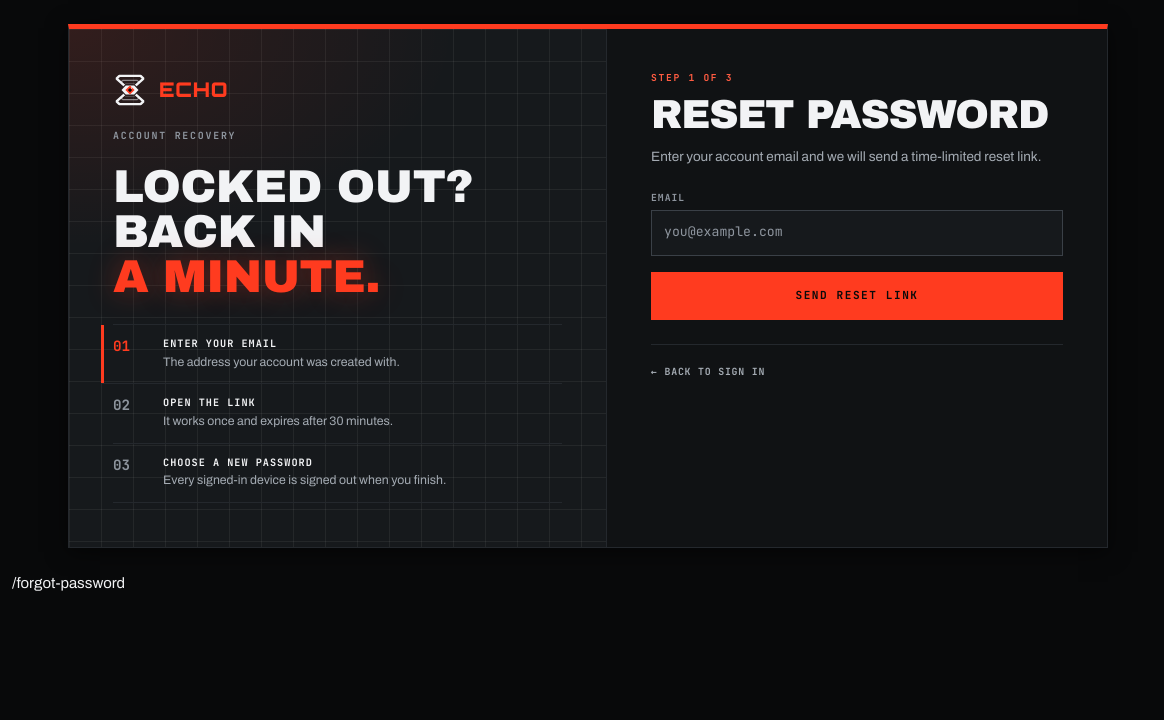
Test: PasswordResetPage — request a link › in development mode offers the reset link directly
Type "maker@example.com" into the field labelled "EMAIL" at (857, 233), box [652,211,1062,255]
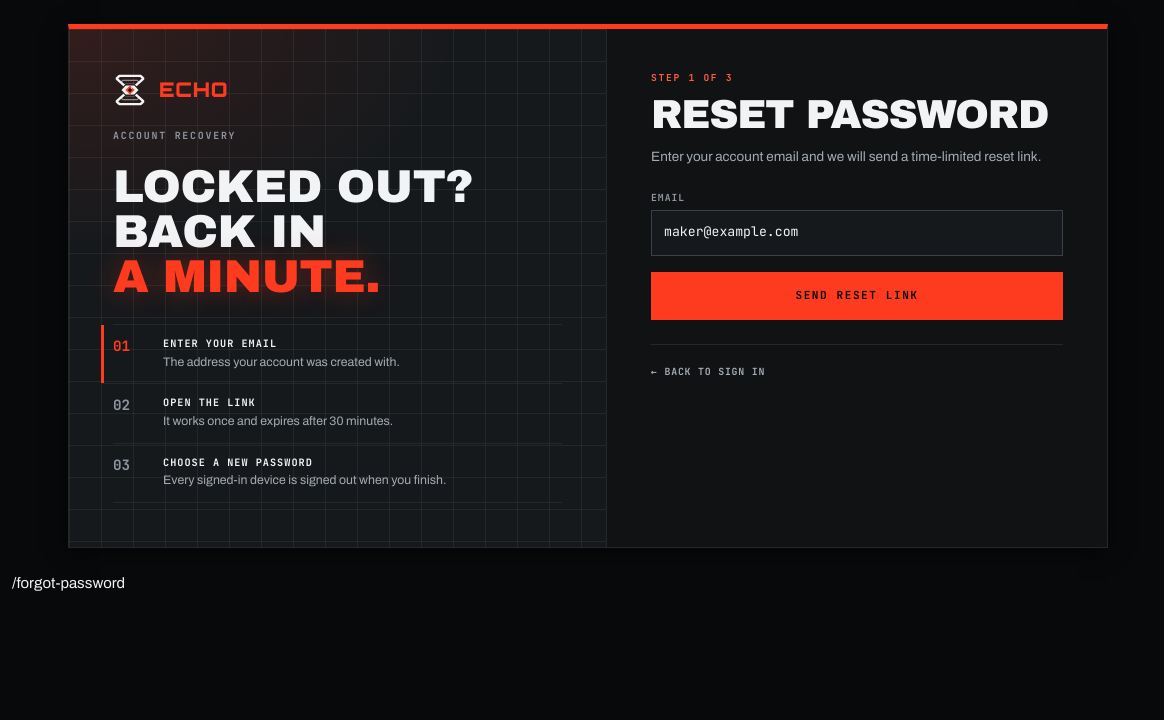
Click the button "SEND RESET LINK" at (857, 296), box [651,272,1063,320]
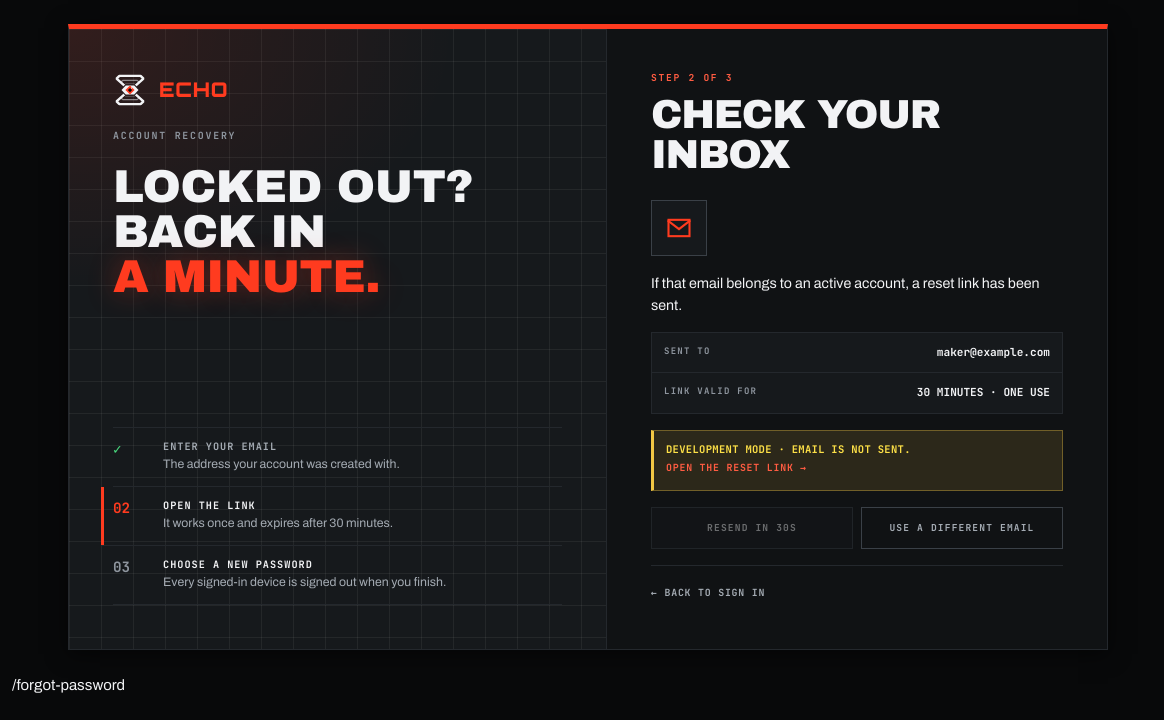
expect the text "DEVELOPMENT MODE · EMAIL IS NOT SENT. OPEN THE RESET LINK →" is shown: met, box [651,430,1063,491]
